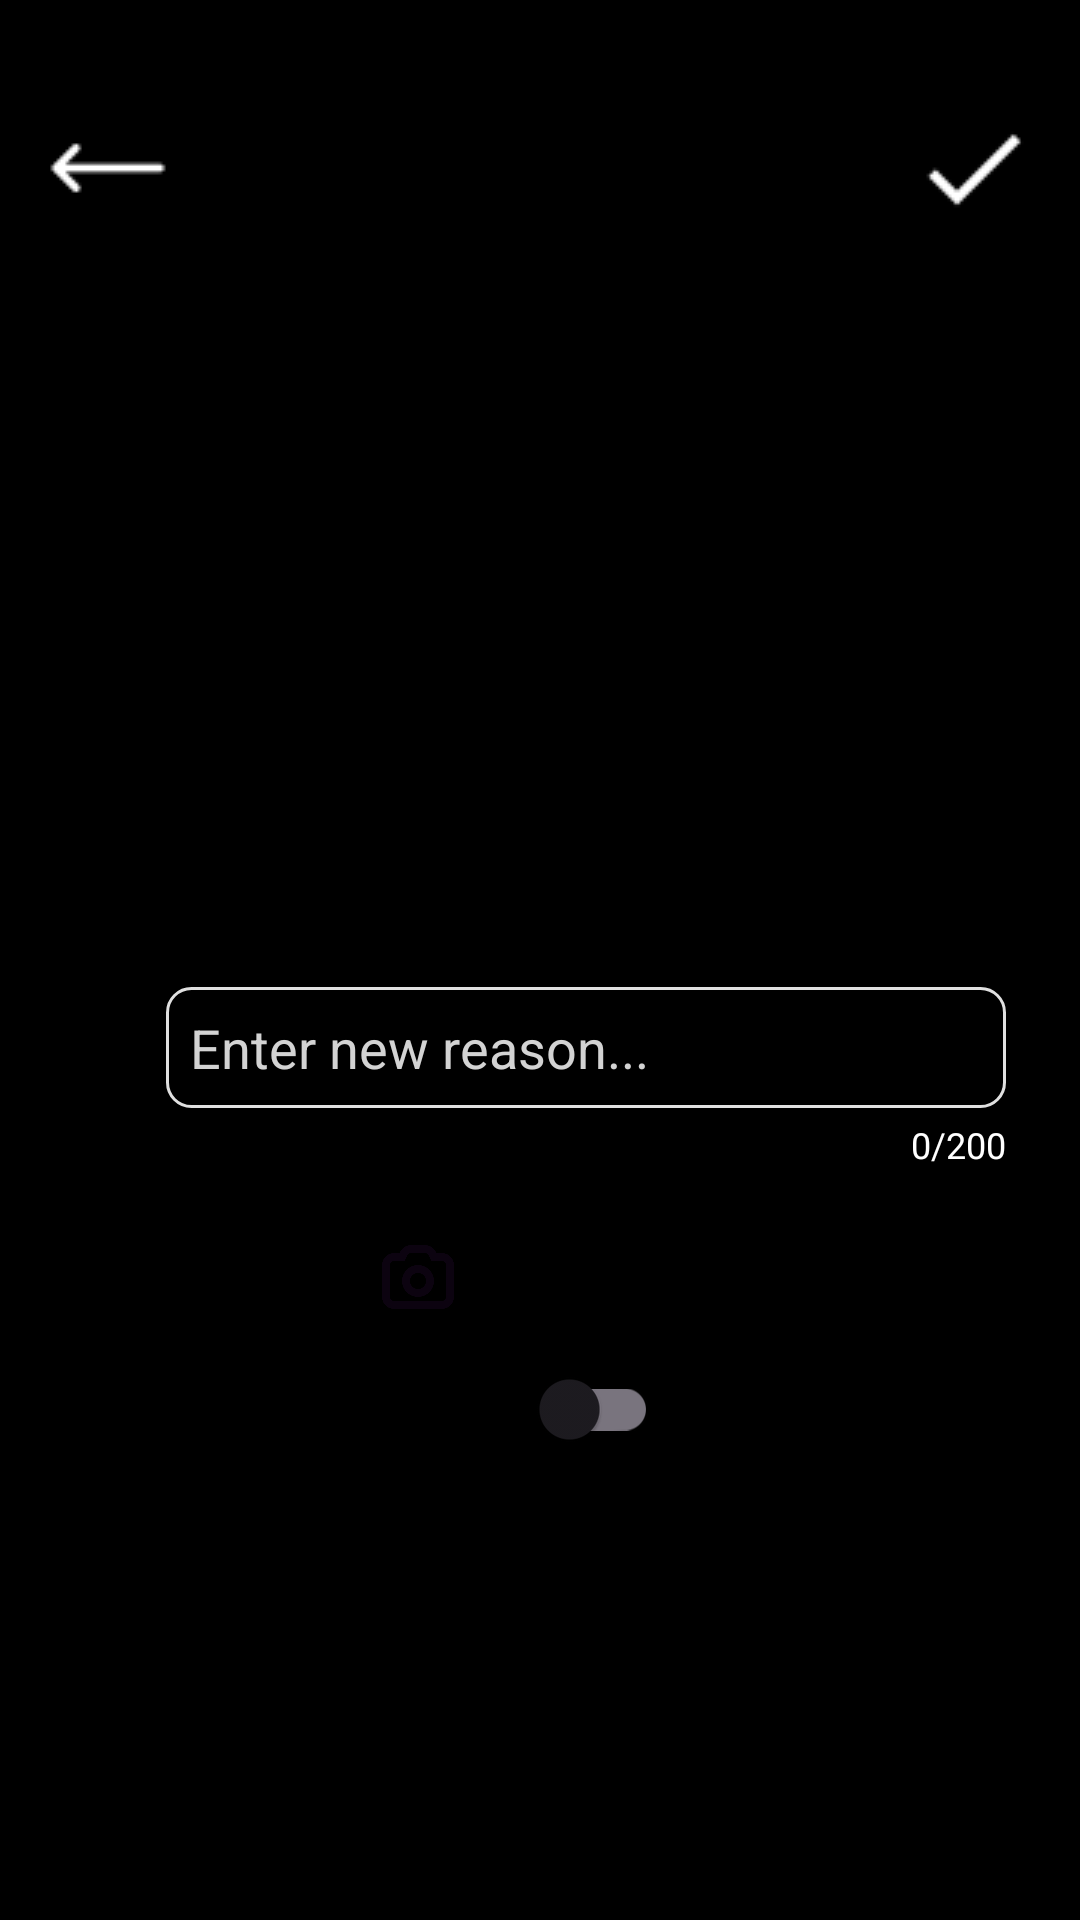

Where to tap for icons on this 1080*1920 app screen, as (x,y):
Go back: (108,168)
Submit entry: (974,169)
